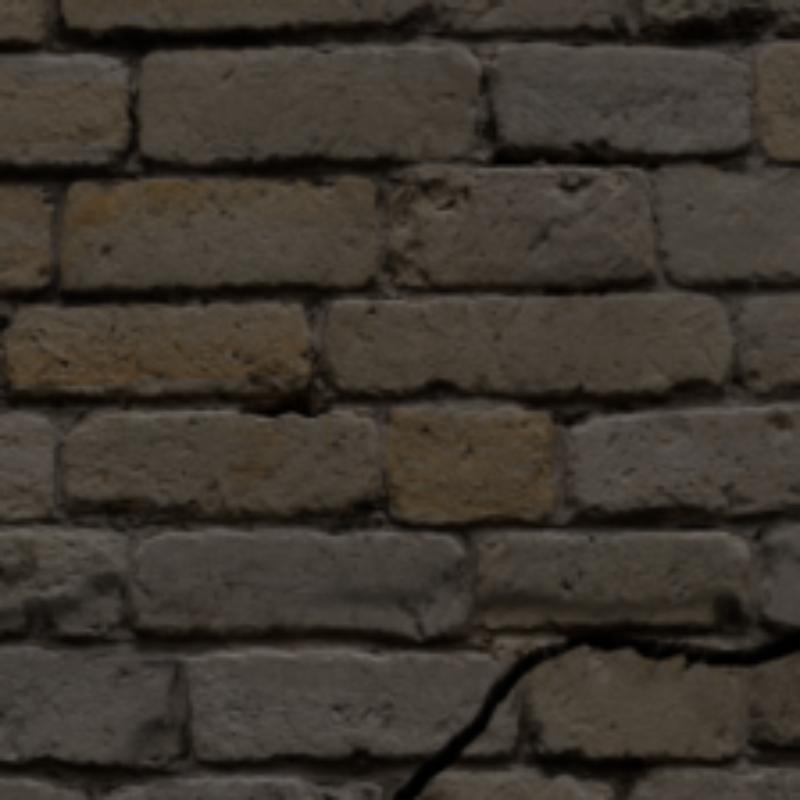pothole: (393, 629, 796, 796)
